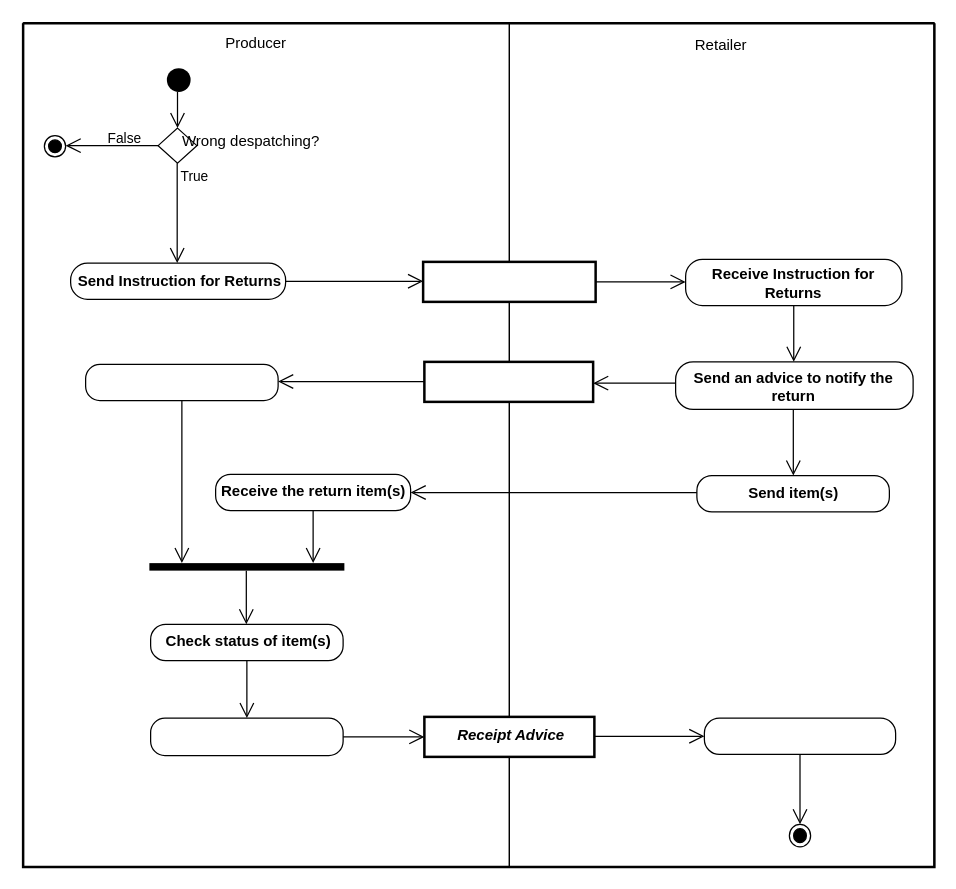
The diagram is 956 pixels wide and 889 high, and some of its shapes have lost their labels. Each missing label, with the centre of its shape:
Despatch Advice: pixel 508 381
Instruction for Returns: pixel 508 281
Receive Receipt Advice: pixel 799 735
Receive the advice: pixel 181 382
Send Receipt Advice: pixel 246 736
